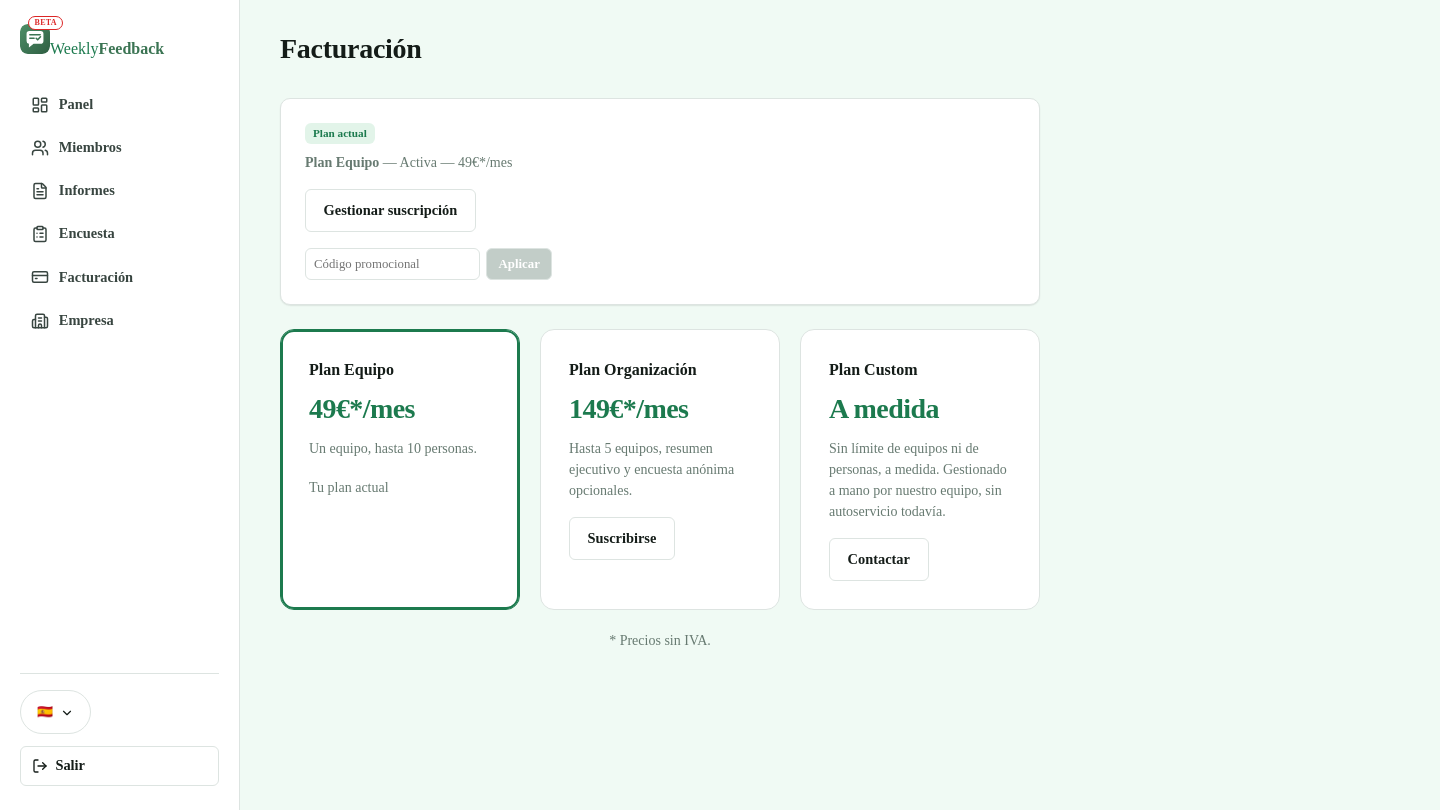
BillingPage — con suscripción activa: cambiar de plan se confirma antes › clicar fuera del modal (overlay) también cancela, salvo que ya esté procesando
Expected: the text "Tu plan actual" is shown, 309,480 -> 389,495
Click the button "Suscribirse" at (622, 538), box 569,517 -> 675,560
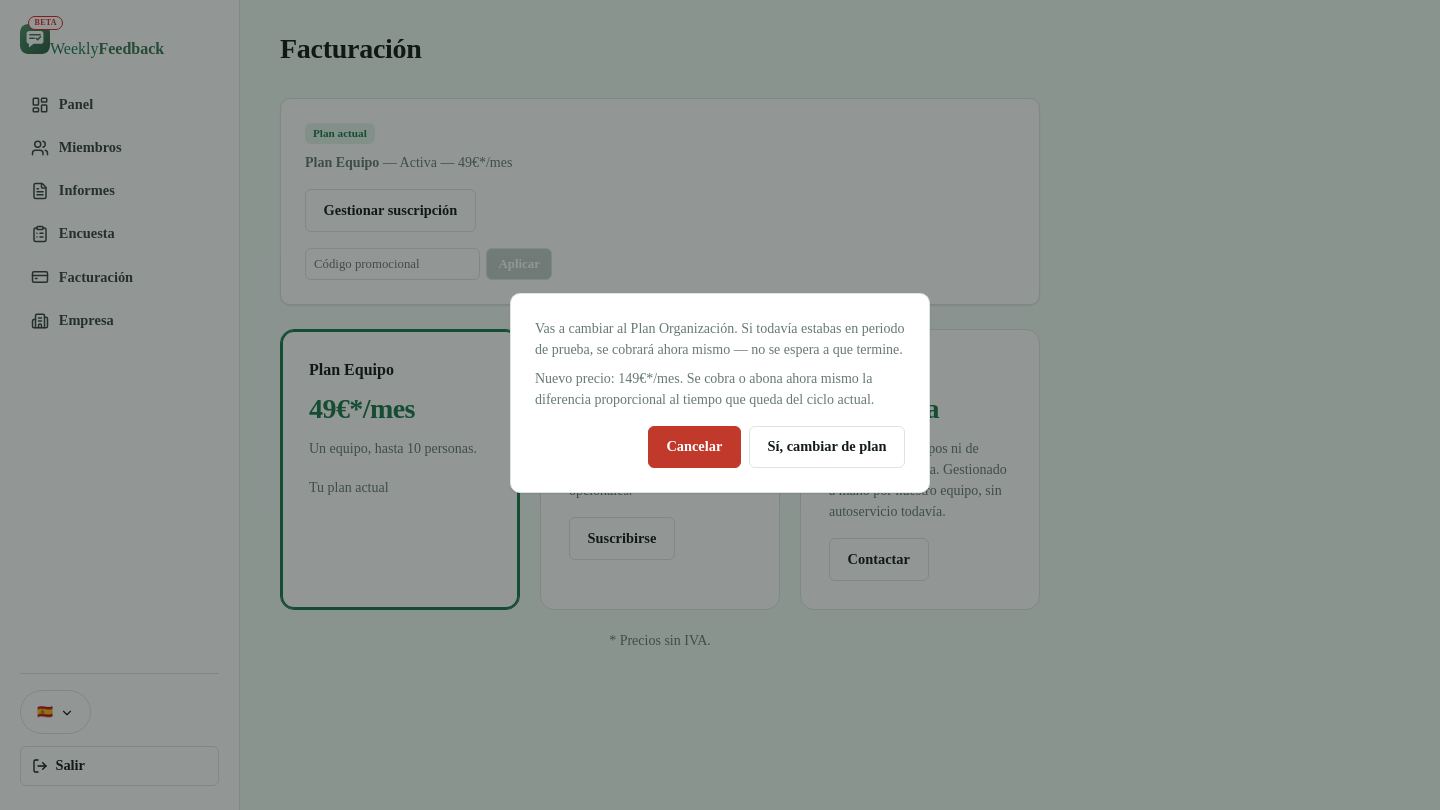
Click the element with class "modal-overlay" at (86, 405), box 0,0 -> 1439,809
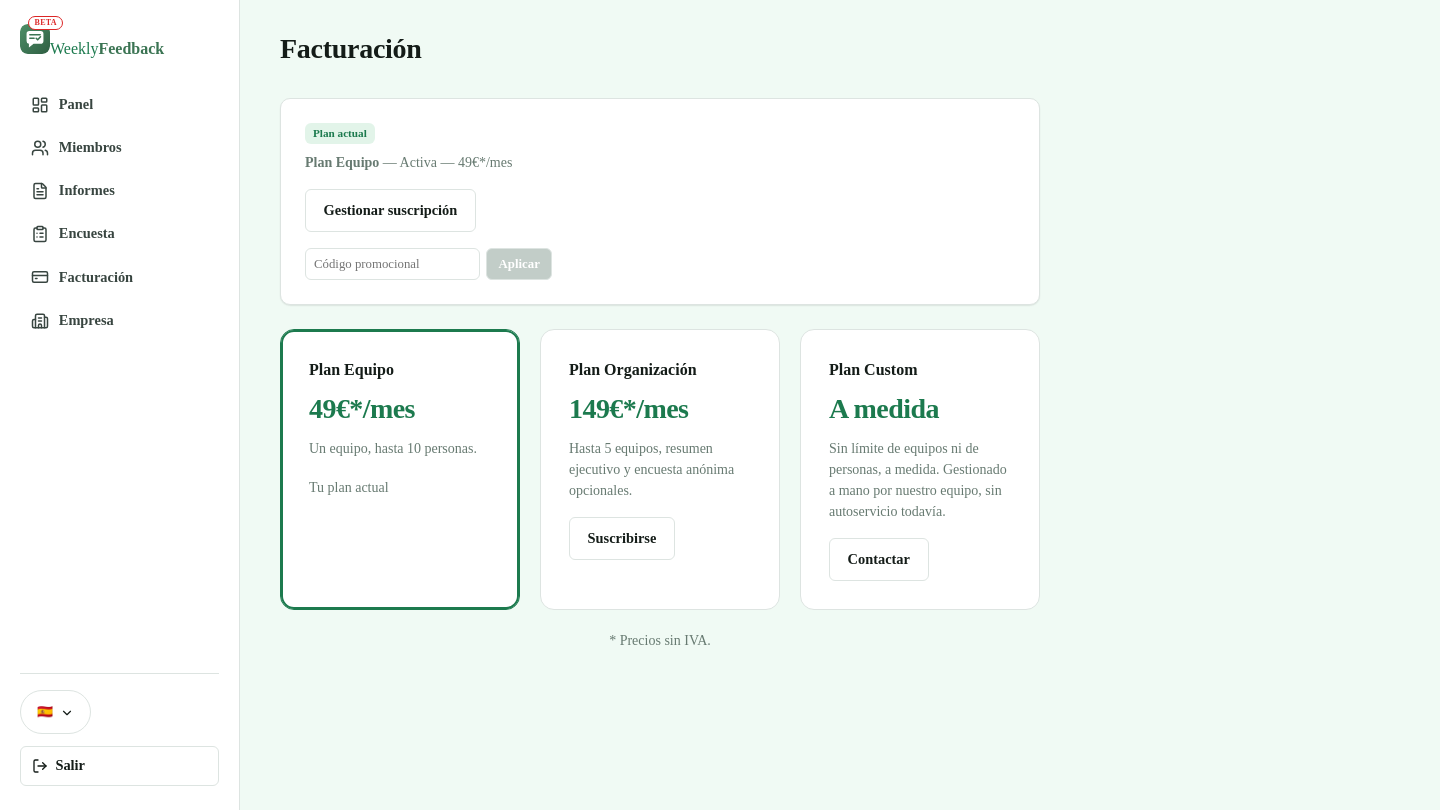
Now the text "Vas a cambiar al" is gone
